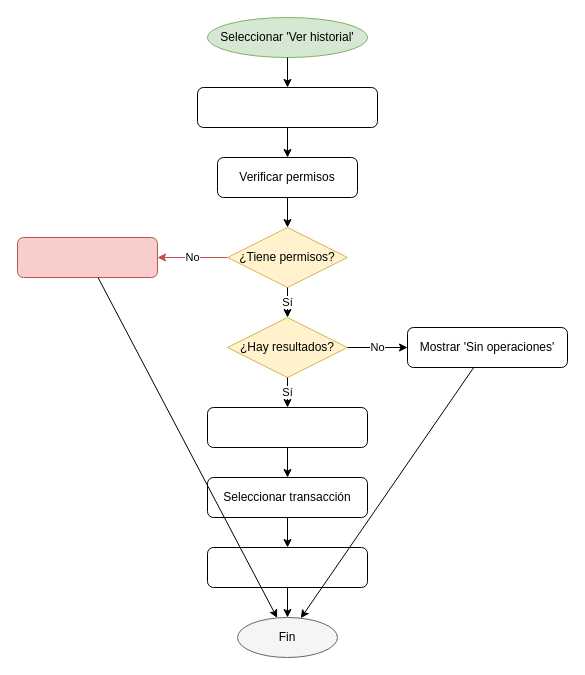
Some shapes in this 585 by 675 pixel diagram are drawn without their labels. Each missing label, with the box of its shape:
Acceso denegado: (16, 236, 158, 278)
Indicar filtros: cuenta, período, estado: (196, 86, 378, 128)
Mostrar detalle y estado: (206, 546, 368, 588)
Mostrar lista de transacciones: (206, 406, 368, 448)
